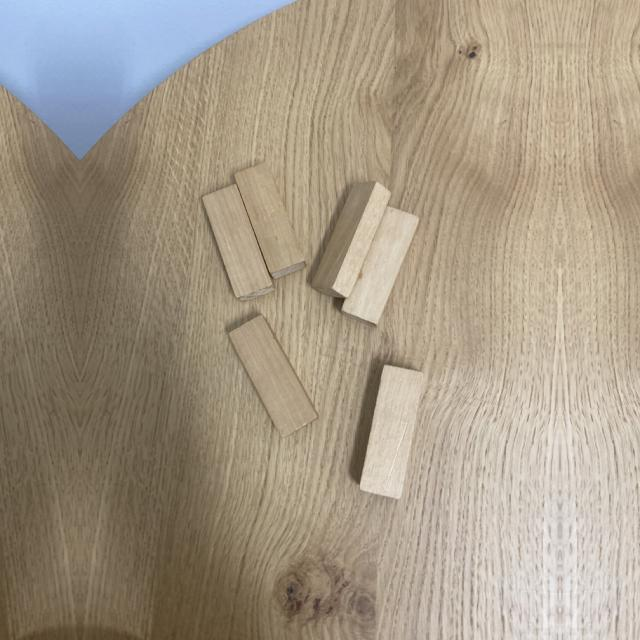jenga: (228, 315, 318, 439), (342, 204, 419, 325), (311, 183, 390, 297), (358, 364, 424, 499), (202, 183, 275, 303), (234, 162, 305, 281)
